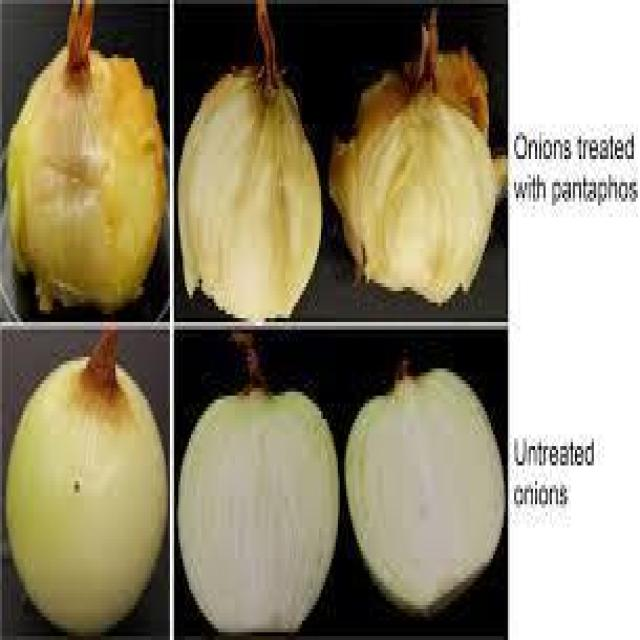Onion: (178, 330, 338, 632), (7, 341, 167, 636), (333, 31, 500, 310), (8, 43, 166, 318), (344, 353, 506, 621), (184, 60, 324, 320)
